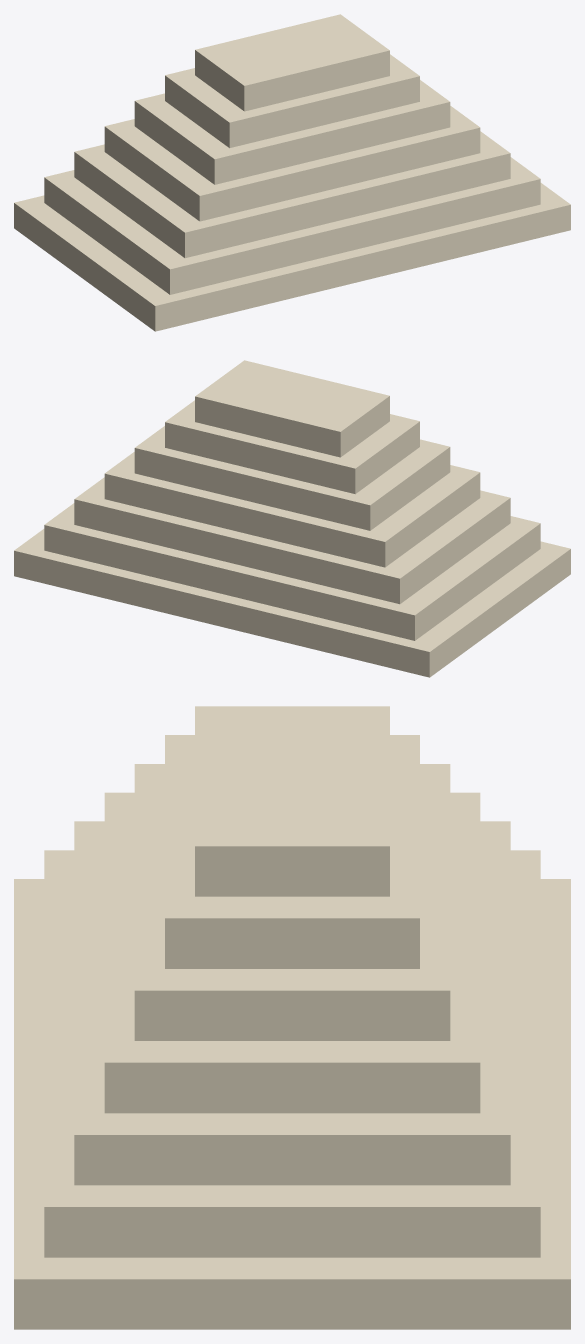
The model's file is place-uxmal.glb.
The picture shows the model from 3 angles, top to bottom: view 1: azimuth 30°, elevation 25°; view 2: azimuth 150°, elevation 25°; view 3: azimuth 270°, elevation 25°; orthographic projection. The views are drawn at different scales.
Parts seen in each view (by area): view 1: place-uxmal; view 2: place-uxmal; view 3: place-uxmal.
Boxes of the visible parts, x1,y1,x2,y2 form: place-uxmal: (14,14,570,331); place-uxmal: (14,360,570,677); place-uxmal: (14,706,570,1329).
Size of the model in its own units: 85 by 35 by 50.
